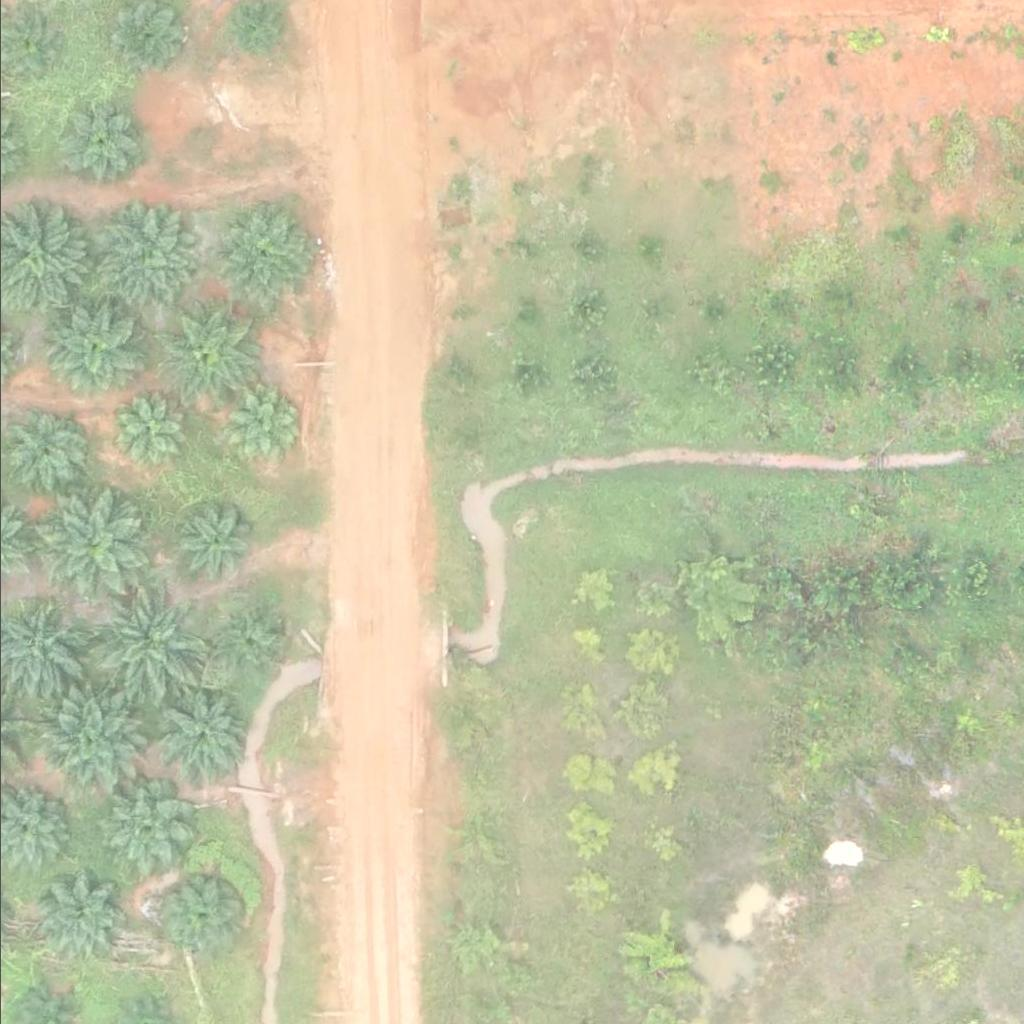Kelapa_Sawit: (90, 589, 215, 714), (84, 204, 198, 317), (38, 491, 151, 604), (210, 205, 311, 305), (159, 303, 260, 403), (38, 692, 139, 792), (40, 303, 140, 403), (153, 693, 241, 781), (166, 500, 255, 587), (214, 388, 302, 475), (99, 784, 187, 871), (32, 874, 120, 961), (165, 879, 241, 954), (61, 104, 137, 179), (2, 418, 78, 493), (110, 393, 185, 468), (215, 613, 278, 675)
